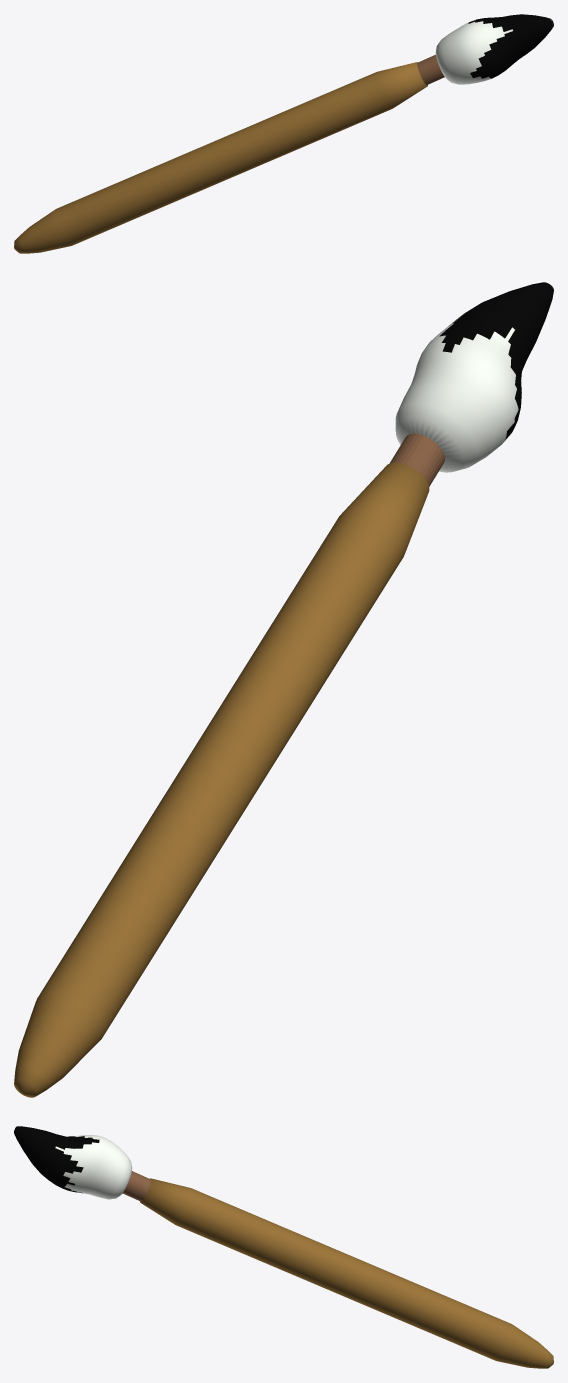
File: paintbrush.fbx
The picture shows the model from 3 angles, top to bottom: view 1: azimuth 90°, elevation 25°; view 2: azimuth 150°, elevation 25°; view 3: azimuth 270°, elevation 25°; orthographic projection. The views are drawn at different scales.
Parts seen in each view (by area): view 1: Cylinder.001, Cylinder; view 2: Cylinder.001, Cylinder; view 3: Cylinder.001, Cylinder.
Part boxes in pixels (x1,y1,x2,y2): Cylinder.001: (14, 62, 427, 253); Cylinder: (417, 14, 553, 84); Cylinder.001: (14, 462, 429, 1097); Cylinder: (390, 282, 553, 486); Cylinder.001: (140, 1178, 553, 1368); Cylinder: (14, 1126, 150, 1201).
Bounding box in the file's own units: 357 × 1437 × 2955.
